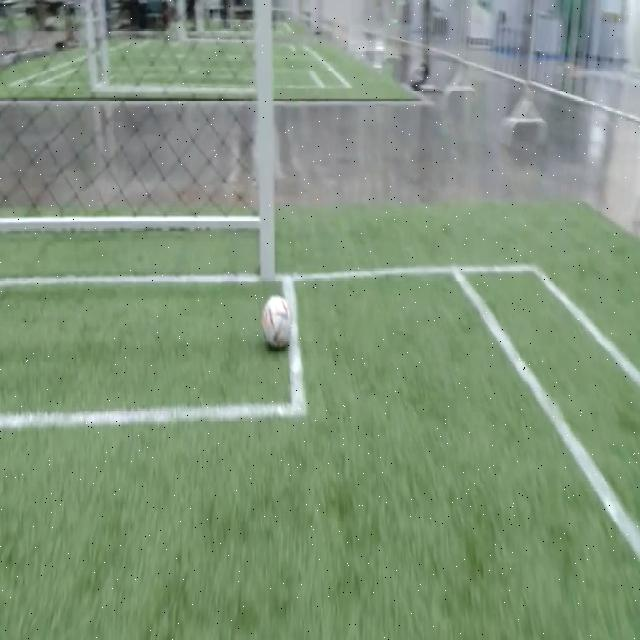ball: (262, 296, 291, 347)
goalpost: (255, 222, 280, 289)
